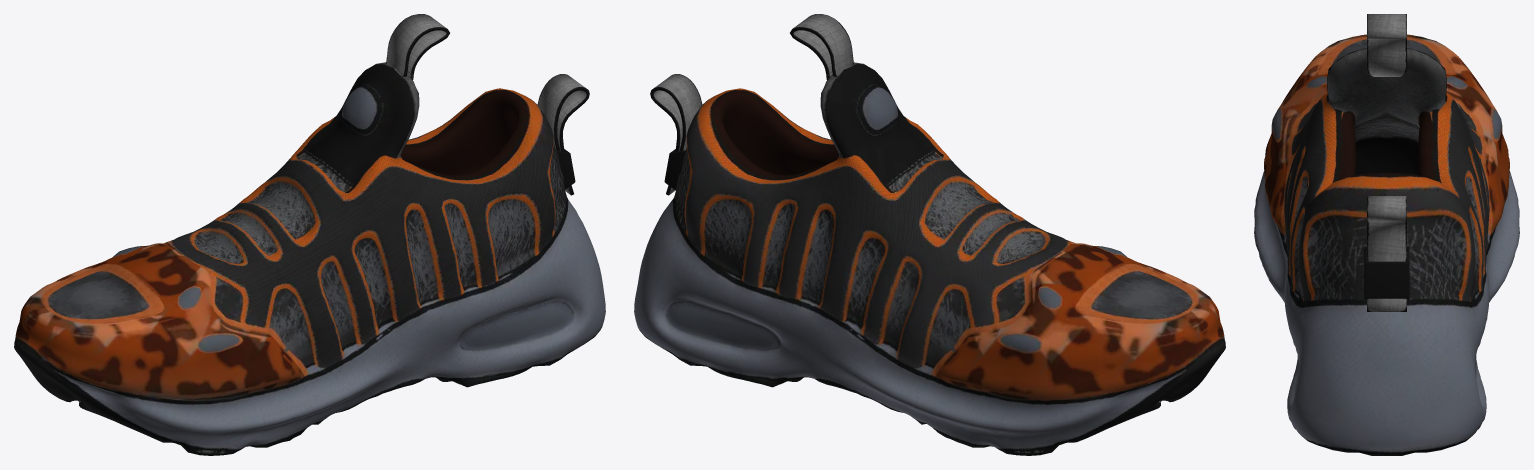
File: shoe-transformed.glb
3 renders of one model, left to right at view 1: azimuth 30°, elevation 25°; view 2: azimuth 150°, elevation 25°; view 3: azimuth 270°, elevation 25°, orthographic. The views are drawn at different scales.
Parts seen in each view (by area): view 1: Object_2; view 2: Object_2; view 3: Object_2.
Boxes of the visible parts, x1,y1,x2,y2 form: Object_2: (14, 14, 605, 455); Object_2: (634, 14, 1225, 455); Object_2: (1254, 14, 1519, 455).
Size of the model in its own units: 369 by 210 by 136.
Materials: 1 (1 with a texture image).
